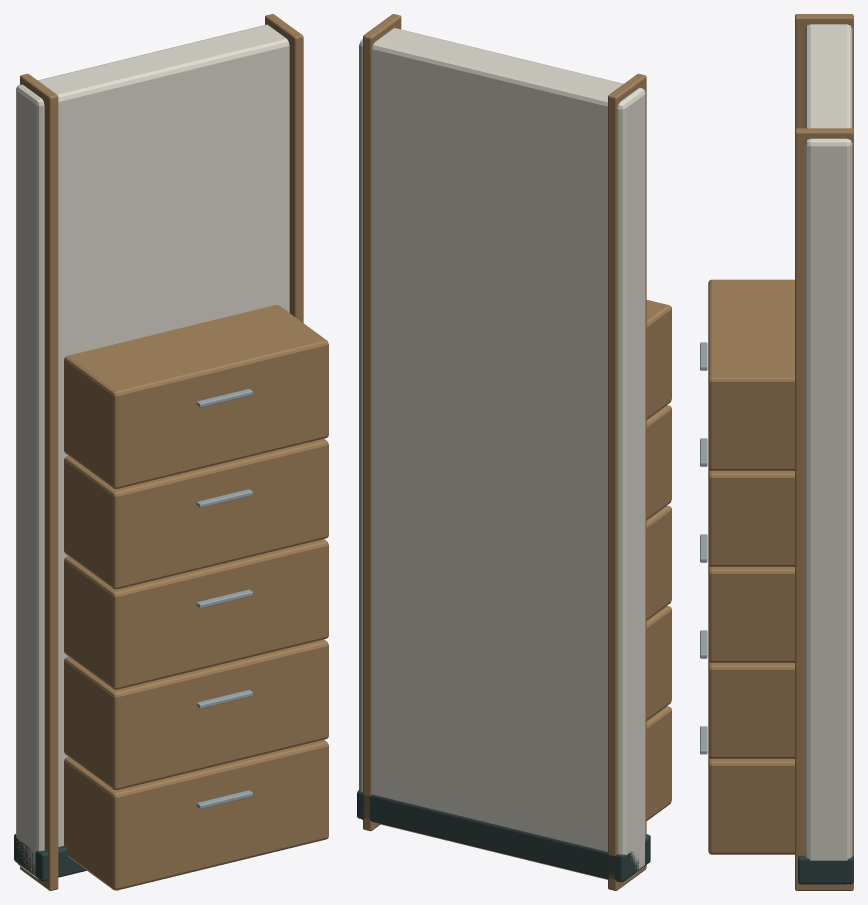
The model's file is service-wall.glb.
3 renders of one model, left to right at view 1: azimuth 30°, elevation 25°; view 2: azimuth 150°, elevation 25°; view 3: azimuth 270°, elevation 25°, orthographic. The views are drawn at different scales.
Parts seen in each view (by area): view 1: service-wall_Oiled_ash, service-wall_Mineral_plaster, service-wall_Satin_stainless_steel, service-wall_Graphite_epoxy_steel; view 2: service-wall_Mineral_plaster, service-wall_Oiled_ash, service-wall_Graphite_epoxy_steel; view 3: service-wall_Oiled_ash, service-wall_Mineral_plaster, service-wall_Graphite_epoxy_steel, service-wall_Satin_stainless_steel.
Boxes of the visible parts, bbox=[...] form: service-wall_Oiled_ash: bbox=[20, 14, 328, 890]; service-wall_Mineral_plaster: bbox=[16, 24, 289, 878]; service-wall_Satin_stainless_steel: bbox=[196, 389, 252, 809]; service-wall_Graphite_epoxy_steel: bbox=[14, 834, 86, 881]; service-wall_Mineral_plaster: bbox=[359, 28, 645, 882]; service-wall_Oiled_ash: bbox=[363, 14, 671, 890]; service-wall_Graphite_epoxy_steel: bbox=[357, 790, 650, 882]; service-wall_Oiled_ash: bbox=[708, 14, 853, 890]; service-wall_Mineral_plaster: bbox=[805, 24, 852, 885]; service-wall_Graphite_epoxy_steel: bbox=[798, 855, 853, 884]; service-wall_Satin_stainless_steel: bbox=[700, 342, 707, 754].
Bounding box in the file's own units: 1 × 2.85 × 0.5225.
